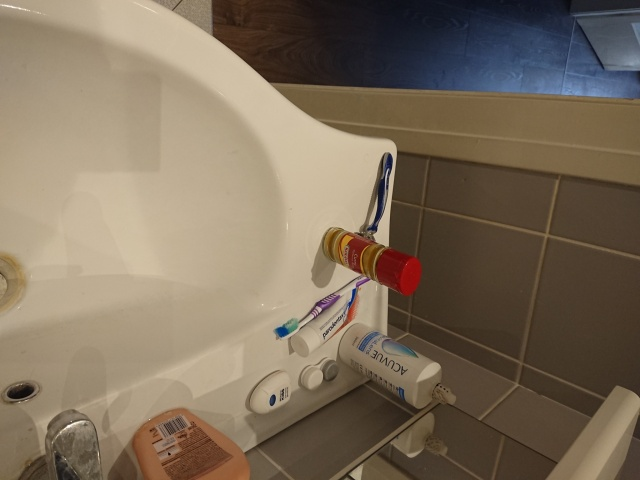Kotanyi Curry Spices Mix 70g: (320, 225, 424, 299)
